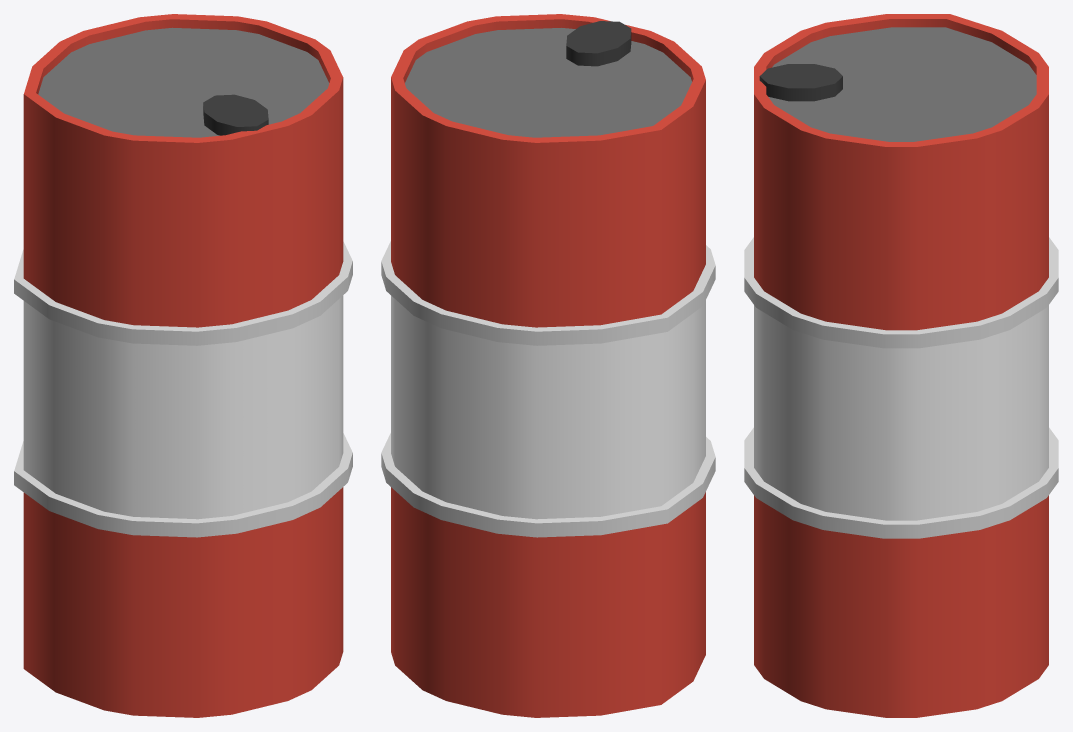
The model's file is Barrel.fbx.
3 renders of one model, left to right at view 1: azimuth 30°, elevation 25°; view 2: azimuth 150°, elevation 25°; view 3: azimuth 270°, elevation 25°, orthographic.
Visible parts, largest first — view 1: Barrel; view 2: Barrel; view 3: Barrel.
Boxes of the visible parts, x1,y1,x2,y2 form: Barrel: (14, 14, 352, 717); Barrel: (381, 14, 715, 717); Barrel: (744, 14, 1058, 717).
Bounding box in the file's own units: 1.06 × 2.02 × 0.9985.
